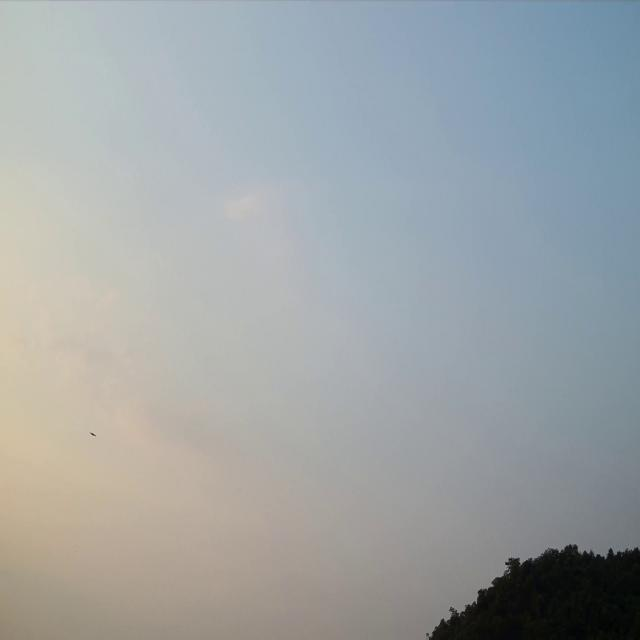UAV: (89, 431, 96, 436)
